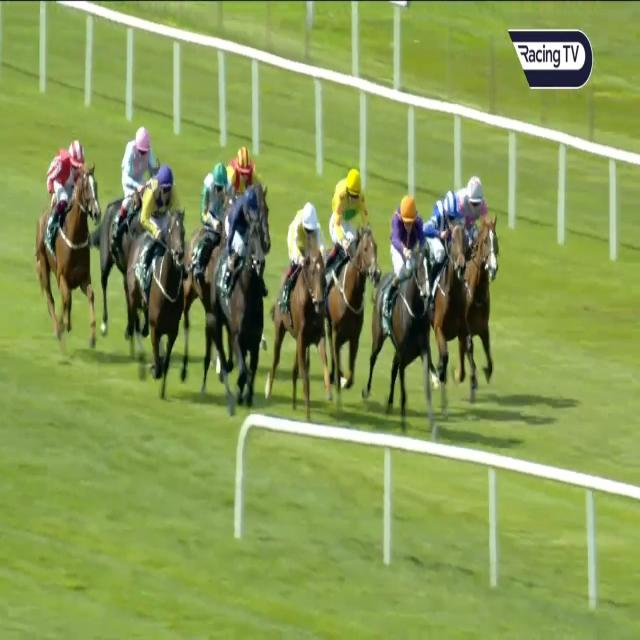horses-racing: (37, 137, 96, 346), (214, 190, 268, 412), (457, 174, 508, 400), (136, 164, 186, 392), (326, 172, 380, 367), (425, 192, 474, 385), (276, 202, 326, 390), (384, 195, 426, 394), (192, 164, 234, 286), (118, 129, 156, 214), (224, 142, 273, 197)
